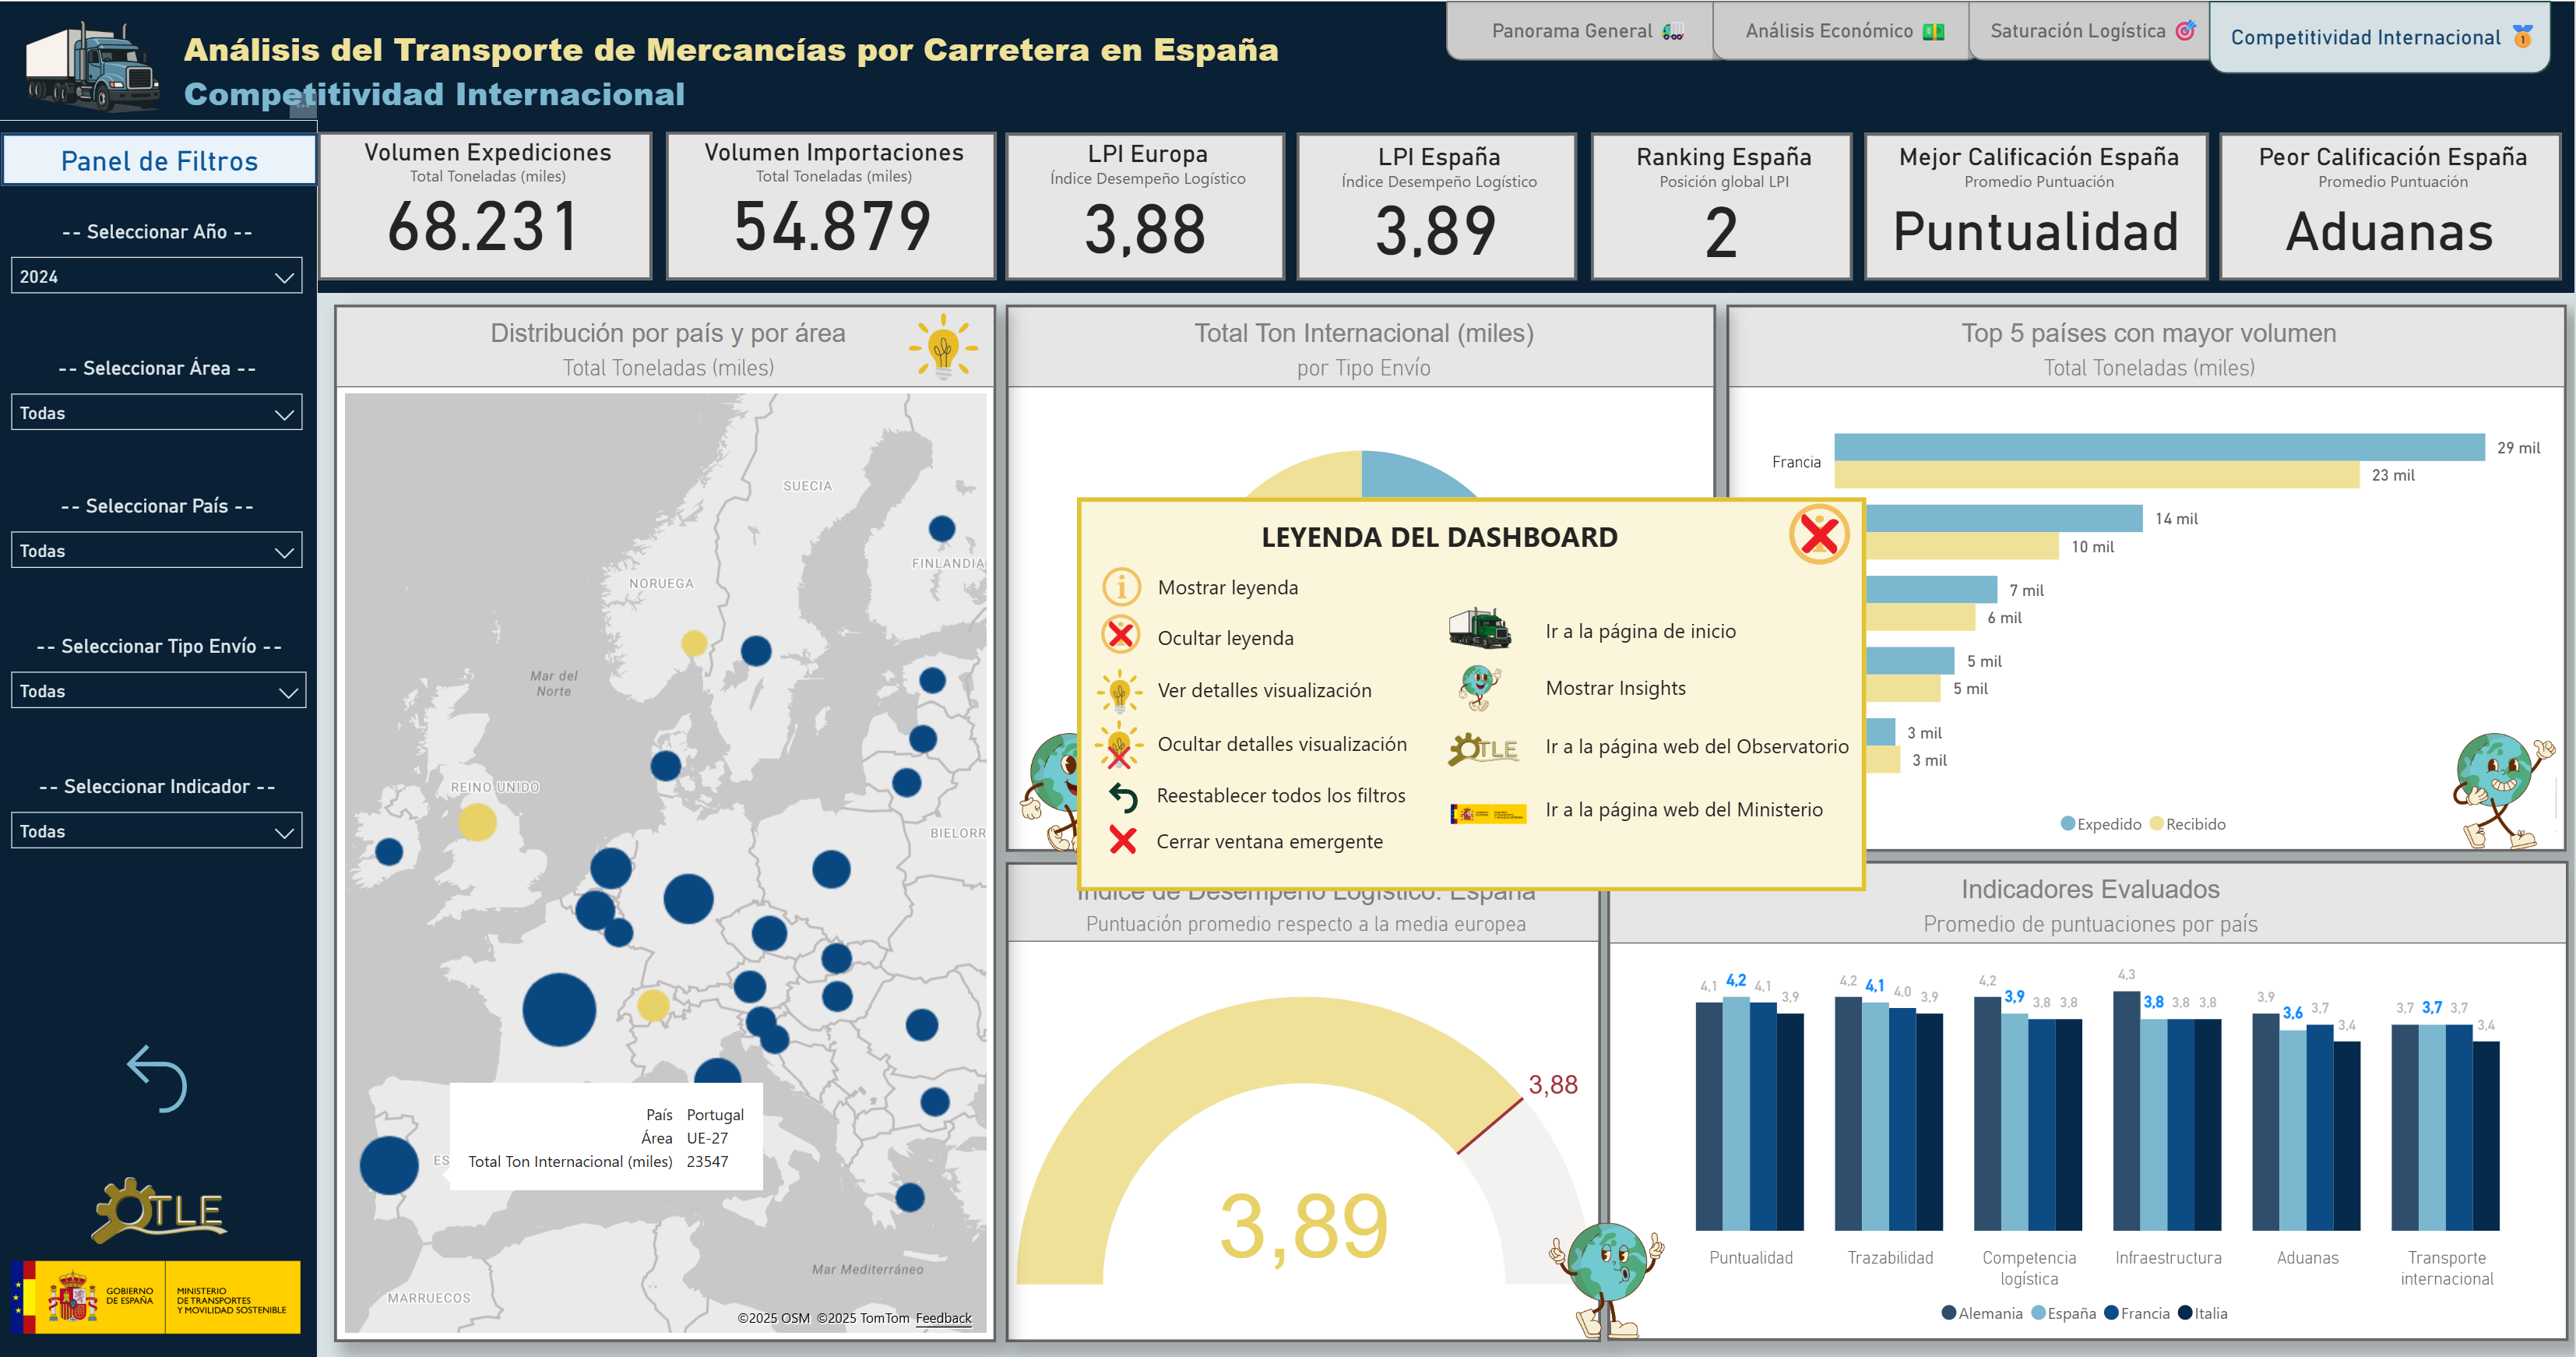

The dashboard page shown, as its layout file describes it:
{"tool":"powerbi","page":{"name":"Competitividad Internacional","canvas":[1747,920],"ordinal":4},"visuals":[{"type":"group","id":"g1","title":"Panel diseño","box":[0,0,1799.4,919.6],"z":0},{"type":"shape","box":[0,0,1799.4,197.8],"z":0,"group":"g1"},{"type":"shape","box":[0,81,218.5,838.5],"z":1000,"group":"g1"},{"type":"cardVisual","title":"Ranking España","fields":{"Data":["Avg(Indice Desempeño (LPI).Ranking)"]},"box":[1080.7,89.1,177,100],"z":1000},{"type":"textbox","box":[122.3,11.7,759,75.5],"z":2000,"group":"g1"},{"type":"image","title":"Info 4","box":[79.1,613.3,70.1,62.9],"z":2000},{"type":"slicer","title":"-- Seleccionar Año --","fields":{"Values":["Año Dim.Año"]},"box":[0.9,148.4,217.6,63.8],"z":3000},{"type":"slicer","title":"-- Seleccionar Área --","fields":{"Values":["Dim Paises.Área"]},"box":[0.9,241.4,217.6,63],"z":4000},{"type":"slicer","title":"-- Seleccionar País --","fields":{"Values":["Dim Paises.País"]},"box":[0.9,335.1,217.6,63.9],"z":5000},{"type":"image","title":"Ocultar Info Pag 2","box":[949.3,777.2,57.4,81.3],"z":6000},{"type":"slicer","title":"-- Seleccionar Indicador --","fields":{"Values":["Indice Desempeño (LPI).Indicador"]},"box":[0.9,524.3,217.6,63.8],"z":7000},{"type":"slicer","title":"-- Seleccionar Tipo Envío --","fields":{"Values":["Tipo Envio Dim.Tipo Envío"]},"box":[0.9,429.9,220.3,63.8],"z":8000},{"type":"textbox","box":[3.6,89,214.9,36],"z":9000},{"type":"clusteredBarChart","title":"Top 5 países con mayor volumen","fields":{"Category":["Dim Paises.País"],"Y":["Medidas Internacional.Total Ton Internacional (miles)"],"Series":["Dim Tipo Envio.Tipo Envío"]},"box":[1172.9,206,569.1,370.6],"z":10000},{"type":"cardVisual","title":"Mejor Calificación España","fields":{"Data":["Min(Indice Desempeño (LPI).Indicador)"]},"box":[1266.1,89.4,233.4,99.7],"z":11000},{"type":"cardVisual","title":"LPI Europa","fields":{"Data":["Medidas Internacional.LPI Promedio"]},"box":[684.8,89.4,189.1,100],"z":12000},{"type":"shape","box":[982.9,0,195,40.4],"z":13000},{"type":"shape","box":[1163.5,0,182.5,40.4],"z":14000},{"type":"shape","box":[1336.4,0,172.9,40.4],"z":15000},{"type":"shape","box":[1499.1,0,232,49.5],"z":16000},{"type":"image","box":[4,846.7,208.9,62.5],"z":17000},{"type":"image","box":[9.5,791.3,203.4,55.4],"z":18000},{"type":"actionButton","box":[80,699.6,59.4,61.2],"z":19000},{"type":"cardVisual","title":"LPI España","fields":{"Data":["Medidas Internacional.LPI Promedio España"]},"box":[881.5,89.1,189.9,100],"z":20000},{"type":"pieChart","fields":{"Category":["Dim Tipo Envio.Tipo Envío"],"Y":["Medidas Internacional.Total Ton Internacional (miles)"]},"box":[684.8,206,481.6,370.6],"z":22000},{"type":"cardVisual","title":"Peor Calificación España","fields":{"Data":["Min(Indice Desempeño (LPI).Indicador)"]},"box":[1506.6,89.4,231.8,99.7],"z":23000},{"type":"cardVisual","title":"Volumen Expediciones","fields":{"Data":["Medidas Internacional.Total Ton Internacional (miles)"]},"box":[218.7,88.8,226.9,100.6],"z":24000},{"type":"gauge","title":"Indice de Desempeño Logístico: España","fields":{"TargetValue":["Medidas Internacional.LPI Promedio"],"Y":["Medidas Internacional.LPI Promedio España"],"MaxValue":["Medidas Internacional.MAximo"],"MinValue":["Medidas Internacional.Minimo"]},"box":[684.8,583.2,403.5,325.4],"z":25000},{"type":"clusteredColumnChart","title":"Indicadores Evaluados","fields":{"Category":["Indice Desempeño (LPI).Indicador"],"Y":["Medidas Internacional.LPI Promedio"],"Series":["Dim Paises.País"]},"box":[1092,582.4,651.2,325.2],"z":26000},{"type":"azureMap","title":"Distribución por país y por área","fields":{"Series":["Dim Paises.Área"],"Category":["Dim Paises.País","Dim Paises.Área"],"Size":["Medidas Internacional.Total Ton Internacional (miles)"]},"box":[229.1,205.6,448.9,702.5],"z":27000},{"type":"cardVisual","title":"Volumen Importaciones","fields":{"Data":["Medidas Internacional.Total Ton Internacional (miles)"]},"box":[453.8,88.8,224.2,100.6],"z":28000},{"type":"image","box":[684.6,490.8,95.7,91.6],"z":29000},{"type":"image","box":[1653,490.8,94,89.9],"z":30000},{"type":"image","box":[1044.1,819.2,96.2,92.6],"z":31000},{"type":"image","box":[9.9,0,111.5,80.9],"z":32000},{"type":"image","box":[613,205.7,58.4,57.6],"z":33000}]}

Visuals, with their boxes in screenshot pixels (x1, y1, x2, y2), scaled from the page's 1747x920 canvas onto the 2576x1357 screenshot:
"Panel diseño" group: [0, 0, 2575, 1356]
shape: [0, 0, 2575, 292]
shape: [0, 119, 322, 1356]
"Ranking España" cardVisual: [1593, 132, 1854, 279]
textbox: [181, 17, 1300, 129]
"Info 4" image: [117, 904, 220, 997]
"-- Seleccionar Año --" slicer: [2, 219, 322, 313]
"-- Seleccionar Área --" slicer: [2, 356, 322, 449]
"-- Seleccionar País --" slicer: [2, 495, 322, 588]
"Ocultar Info Pag 2" image: [1400, 1147, 1484, 1267]
"-- Seleccionar Indicador --" slicer: [2, 774, 322, 868]
"-- Seleccionar Tipo Envío --" slicer: [2, 634, 326, 728]
textbox: [5, 132, 322, 185]
"Top 5 países con mayor volumen" clusteredBarChart: [1730, 304, 2569, 851]
"Mejor Calificación España" cardVisual: [1867, 132, 2211, 279]
"LPI Europa" cardVisual: [1010, 132, 1289, 280]
shape: [1449, 0, 1737, 59]
shape: [1716, 0, 1985, 59]
shape: [1971, 0, 2226, 59]
shape: [2211, 0, 2553, 73]
image: [6, 1249, 314, 1341]
image: [14, 1167, 314, 1249]
actionButton: [118, 1032, 206, 1123]
"LPI España" cardVisual: [1300, 132, 1580, 279]
pieChart - Dim Tipo Envio.Tipo Envío x Medidas Internacional.Total Ton Internacional (miles): [1010, 304, 1720, 851]
"Peor Calificación España" cardVisual: [2222, 132, 2564, 279]
"Volumen Expediciones" cardVisual: [322, 131, 657, 280]
"Indice de Desempeño Logístico: España" gauge: [1010, 860, 1605, 1340]
"Indicadores Evaluados" clusteredColumnChart: [1610, 859, 2571, 1339]
"Distribución por país y por área" azureMap: [338, 303, 1000, 1339]
"Volumen Importaciones" cardVisual: [669, 131, 1000, 280]
image: [1009, 724, 1151, 859]
image: [2437, 724, 2575, 857]
image: [1540, 1208, 1681, 1345]
image: [15, 0, 179, 119]
image: [904, 303, 990, 389]
